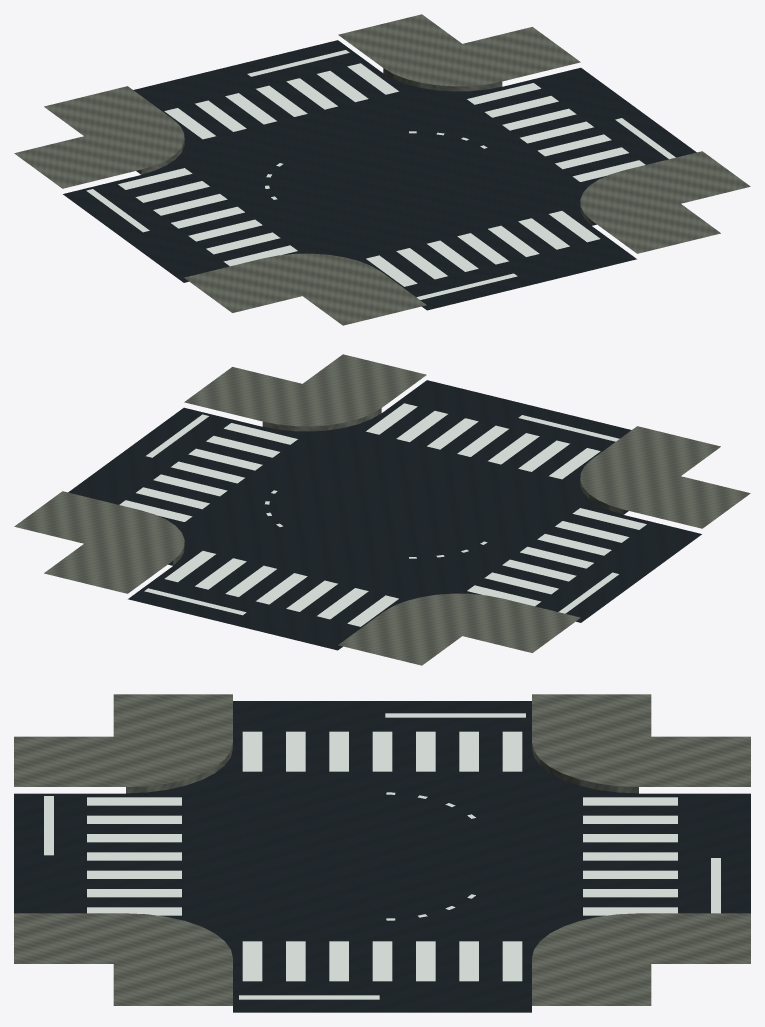
Rendered from junc_cross_2x2_LOD0.glb.
3 renders of one model, top to bottom at view 1: azimuth 30°, elevation 25°; view 2: azimuth 150°, elevation 25°; view 3: azimuth 270°, elevation 25°, orthographic. The views are drawn at different scales.
Parts seen in each view (by area): view 1: junc_cross_2x2__surface, junc_cross_2x2__rounded_corner_curb, junc_cross_2x2__crosswalk_paint, junc_cross_2x2__stop_line_paint; view 2: junc_cross_2x2__surface, junc_cross_2x2__rounded_corner_curb, junc_cross_2x2__crosswalk_paint, junc_cross_2x2__stop_line_paint; view 3: junc_cross_2x2__surface, junc_cross_2x2__rounded_corner_curb, junc_cross_2x2__crosswalk_paint, junc_cross_2x2__stop_line_paint.
Boxes of the visible parts, x1,y1,x2,y2 form: junc_cross_2x2__surface: (63, 40, 696, 310); junc_cross_2x2__rounded_corner_curb: (14, 14, 750, 325); junc_cross_2x2__crosswalk_paint: (118, 63, 645, 286); junc_cross_2x2__stop_line_paint: (86, 50, 675, 299); junc_cross_2x2__surface: (68, 380, 701, 650); junc_cross_2x2__rounded_corner_curb: (14, 354, 750, 665); junc_cross_2x2__crosswalk_paint: (119, 403, 646, 626); junc_cross_2x2__stop_line_paint: (144, 414, 619, 615); junc_cross_2x2__surface: (14, 701, 750, 1012); junc_cross_2x2__rounded_corner_curb: (14, 694, 750, 1005); junc_cross_2x2__crosswalk_paint: (87, 731, 677, 981); junc_cross_2x2__stop_line_paint: (44, 713, 720, 999).
Size of the model in its own units: 14.8 by 0.145 by 14.8.
Materials: 4 (3 with a texture image).
